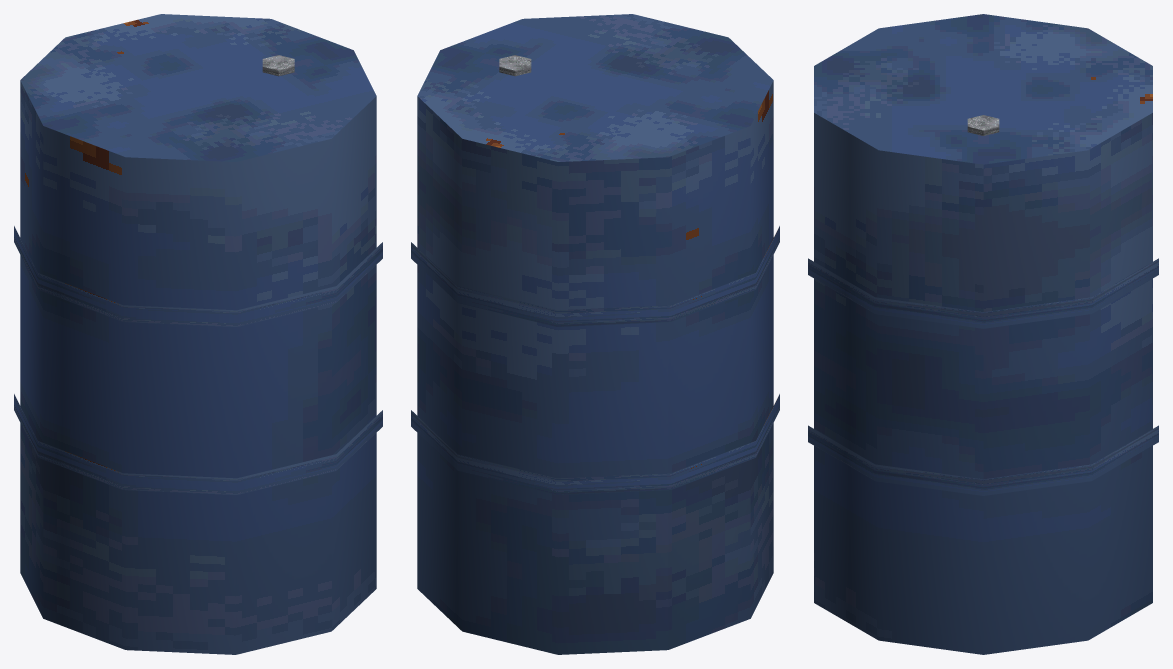
The model's file is oil_drum.glb.
3 views of the same model, side by side, from view 1: azimuth 30°, elevation 25°; view 2: azimuth 150°, elevation 25°; view 3: azimuth 270°, elevation 25° (orthographic).
Visible parts, largest first — view 1: oil_drum; view 2: oil_drum; view 3: oil_drum.
Boxes of the visible parts, x1,y1,x2,y2 form: oil_drum: (14,14,382,654); oil_drum: (411,14,779,654); oil_drum: (808,14,1158,654).
Size of the model in its own units: 0.6 by 0.89 by 0.5706.
1 material, 1 textured.
